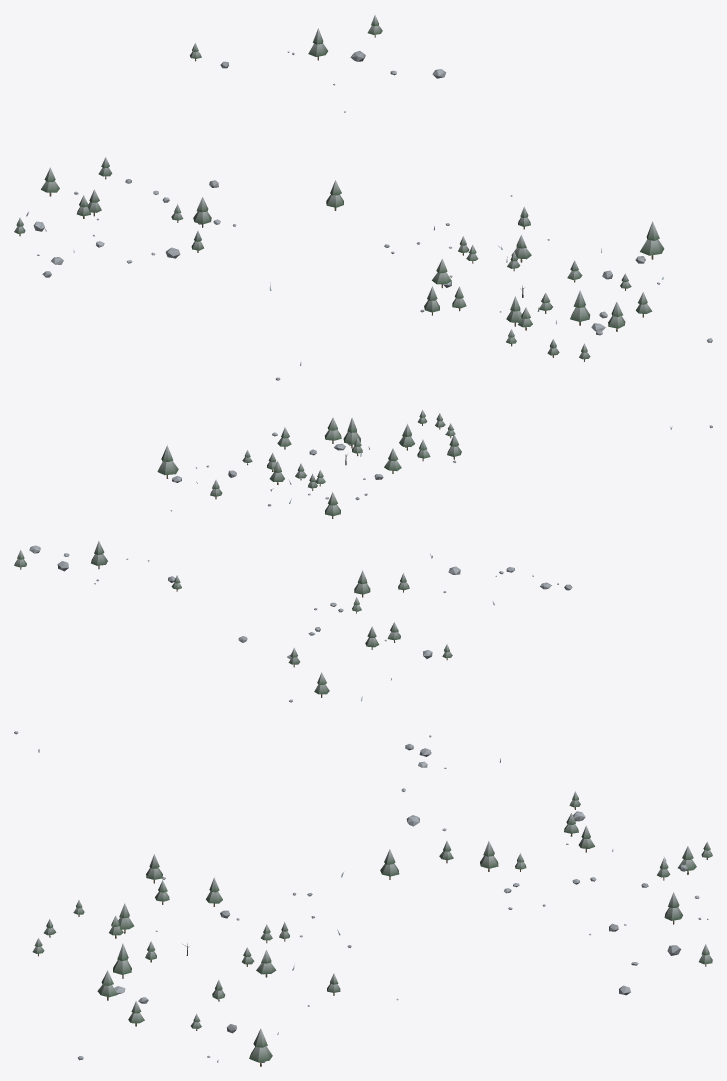
Rendered from frost_land_scatter_c17_09_lod1.glb.
3 renders of one model, top to bottom at view 1: azimuth 30°, elevation 25°; view 2: azimuth 150°, elevation 25°; view 3: azimuth 270°, elevation 25°, orthographic. The views are drawn at different scales.
Visible parts, largest first — view 1: frost_land_scatter_c17_09_lod1; view 2: frost_land_scatter_c17_09_lod1; view 3: frost_land_scatter_c17_09_lod1.
Part boxes in pixels (<box>): frost_land_scatter_c17_09_lod1: <box>14,15,712,380</box>; frost_land_scatter_c17_09_lod1: <box>14,410,712,702</box>; frost_land_scatter_c17_09_lod1: <box>14,731,712,1066</box>.
Size of the model in its own units: 230 by 48.73 by 255.
